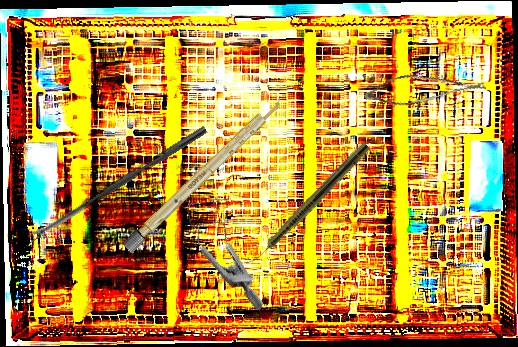Handpiece: (244, 140, 371, 271)
Micro Scissor: (362, 54, 489, 121)
Scalpel Handle: (122, 94, 286, 254)
Speculum: (159, 184, 299, 312)
Surgical Spoon: (27, 124, 208, 243)
